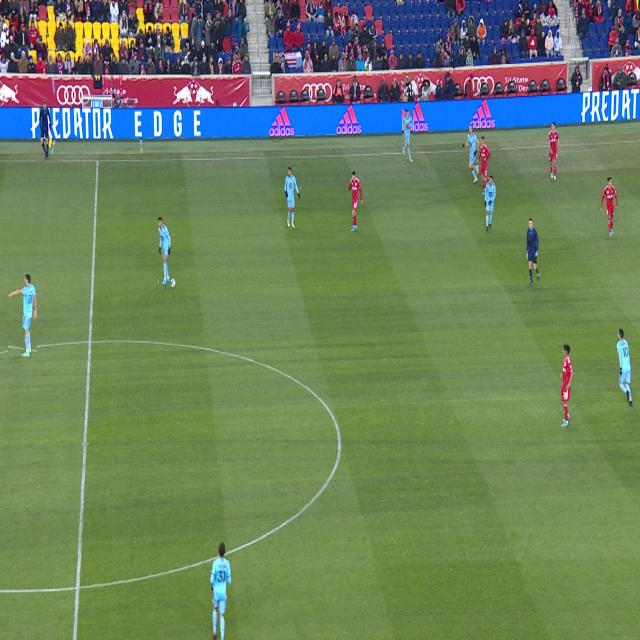football: (170, 277, 176, 288)
player: (8, 274, 37, 357), (210, 542, 231, 640), (616, 329, 633, 407), (600, 177, 618, 237), (463, 124, 480, 183), (561, 344, 573, 427), (285, 168, 300, 228), (158, 217, 171, 285), (349, 171, 363, 232), (477, 136, 491, 195), (548, 122, 561, 180), (484, 175, 496, 231), (403, 110, 413, 162)
referee: (526, 219, 540, 288)
